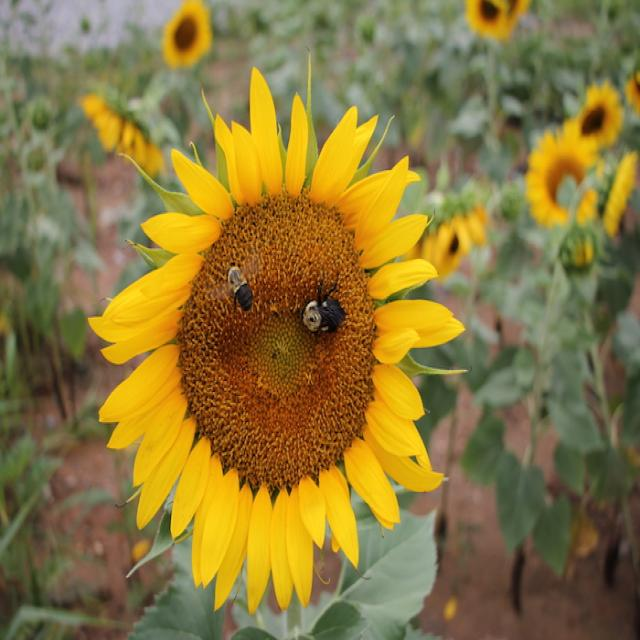sunflower: (88, 59, 448, 640), (520, 120, 613, 249), (160, 0, 220, 81)
